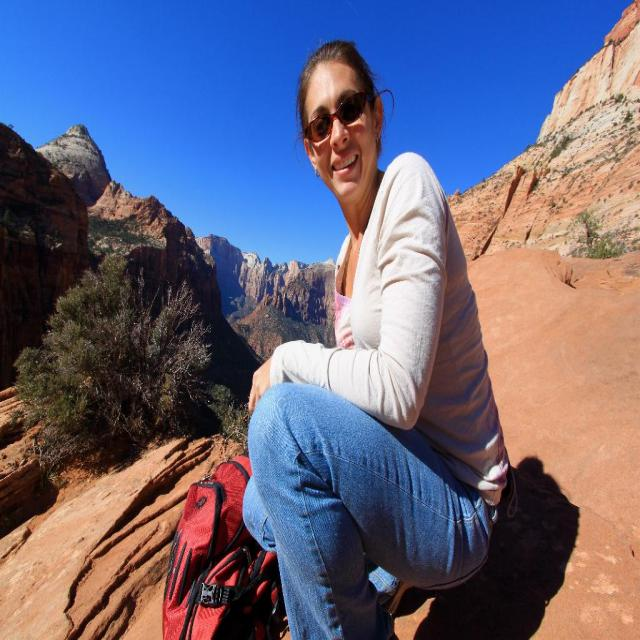no_helmet: (292, 126, 368, 158)
